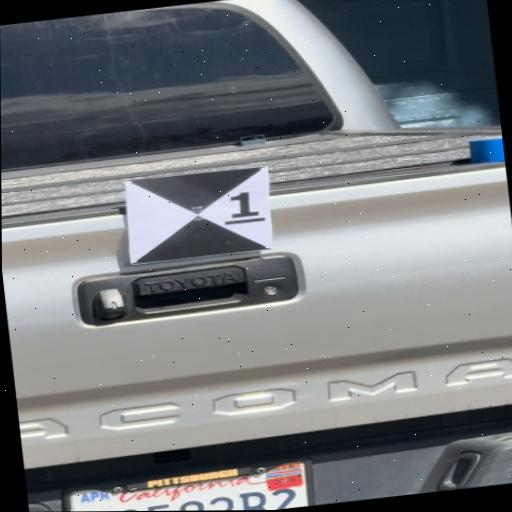target1: (126, 167, 270, 264)
